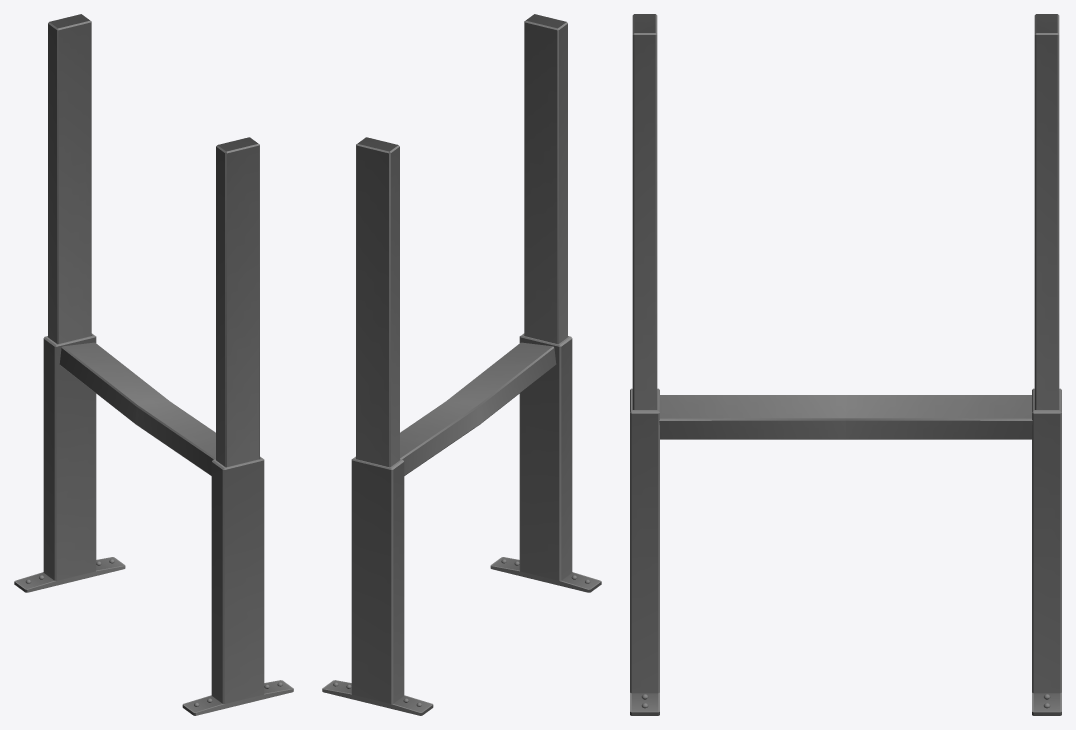
The model's file is teline.fbx.
3 renders of one model, left to right at view 1: azimuth 30°, elevation 25°; view 2: azimuth 150°, elevation 25°; view 3: azimuth 270°, elevation 25°, orthographic. The views are drawn at different scales.
Visible parts, largest first — view 1: teline, teline_tolppa; view 2: teline, teline_tolppa; view 3: teline, teline_tolppa.
Part boxes in pixels (<box>): teline: <box>14,333,293,715</box>; teline_tolppa: <box>48,14,259,467</box>; teline: <box>322,333,601,715</box>; teline_tolppa: <box>356,14,567,467</box>; teline: <box>630,388,1061,715</box>; teline_tolppa: <box>632,14,1059,409</box>.
Size of the model in its own units: 29.73 by 158 by 93.14.
1 material, 1 textured.
